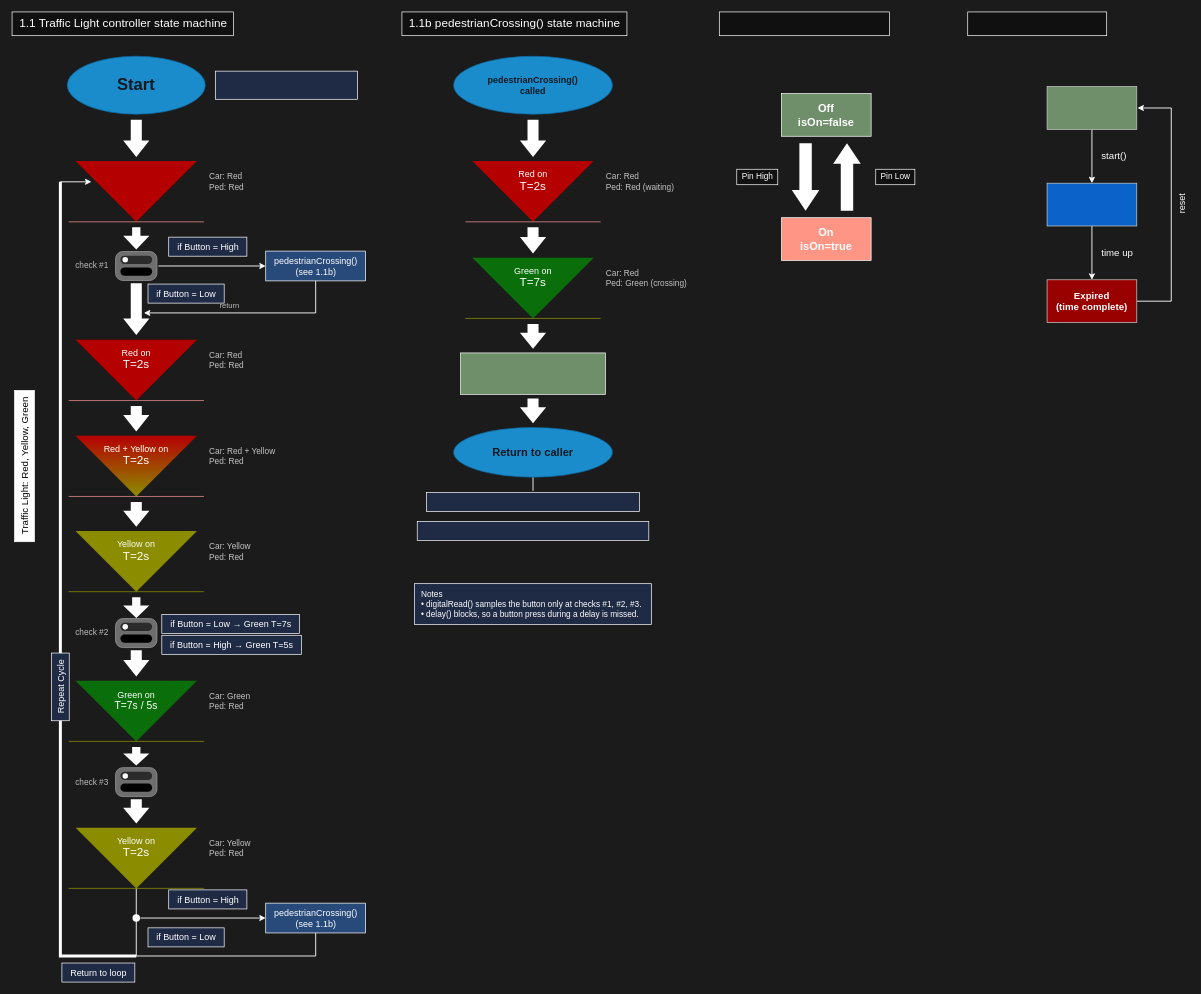
The diagram is 1201 pixels wide and 994 high, and some of its shapes have lost their labels. Each missing label, with the box of its shape:
1.2 Traffic Light state machine: (719, 11, 889, 36)
1.3 Timer state machine: (967, 11, 1107, 36)
called from check #1 → continue at Red on, T=2s: (426, 492, 640, 511)
called from check #3 → Return to loop (Red on, T=5s): (417, 521, 649, 540)
Idle: (1046, 86, 1137, 129)
Ped Red on, Ped Green off: (460, 352, 605, 394)
Pedestrian light = Red in all states of 1.1 (Green only inside 1.1b): (215, 70, 358, 99)
Red on T=5s: (75, 161, 197, 221)
Running (counting): (1046, 183, 1137, 226)
